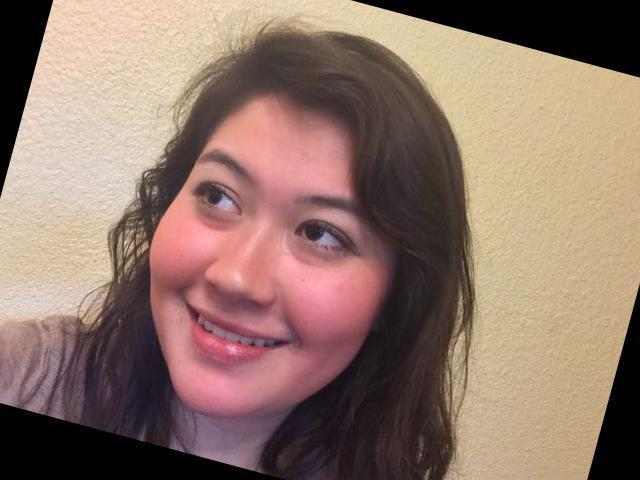Drunk: (159, 110, 368, 412)
